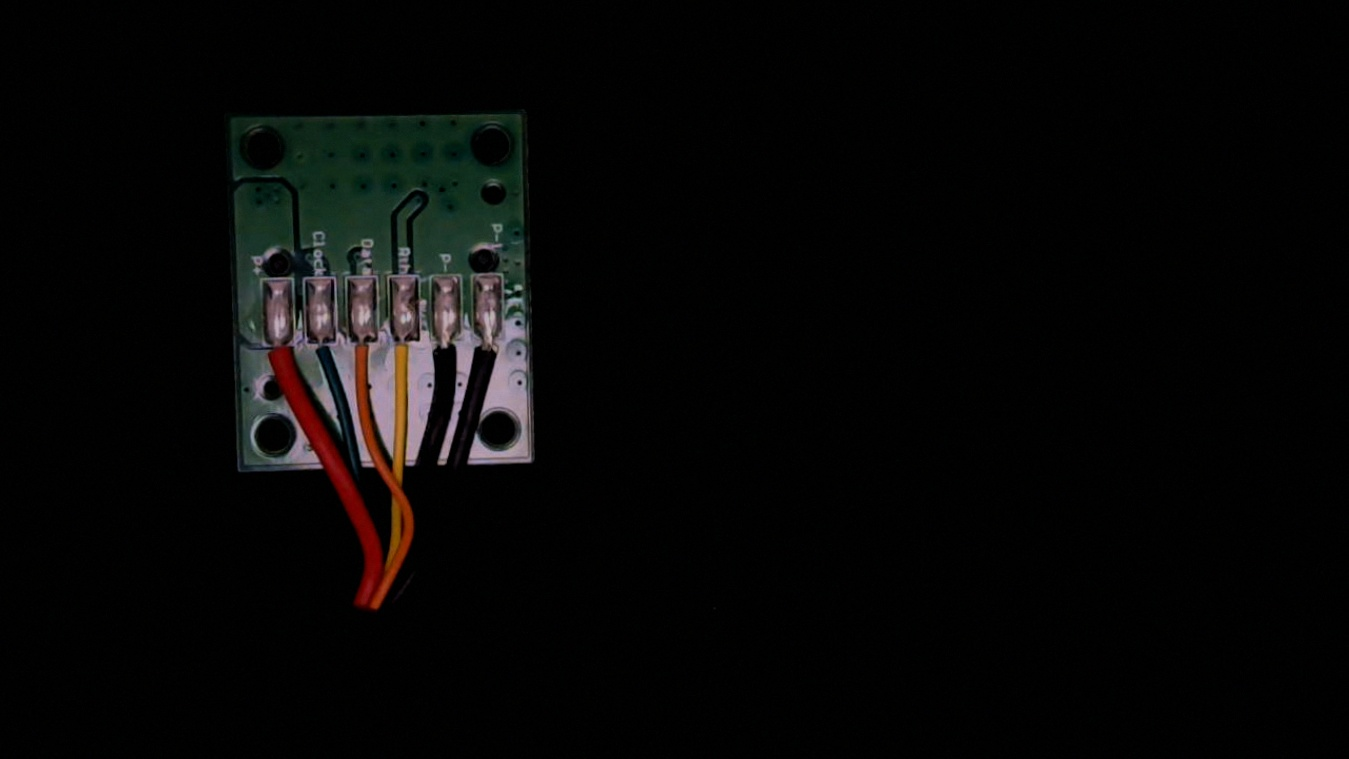Black: (428, 321, 462, 394)
Black1: (469, 320, 505, 392)
Green: (303, 323, 340, 390)
Orange: (346, 317, 381, 395)
Red: (259, 324, 296, 399)
Yellow: (384, 319, 422, 398)
